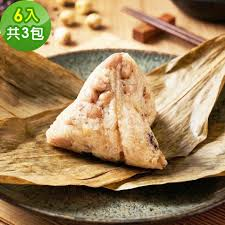zongzi: (46, 53, 166, 168)
